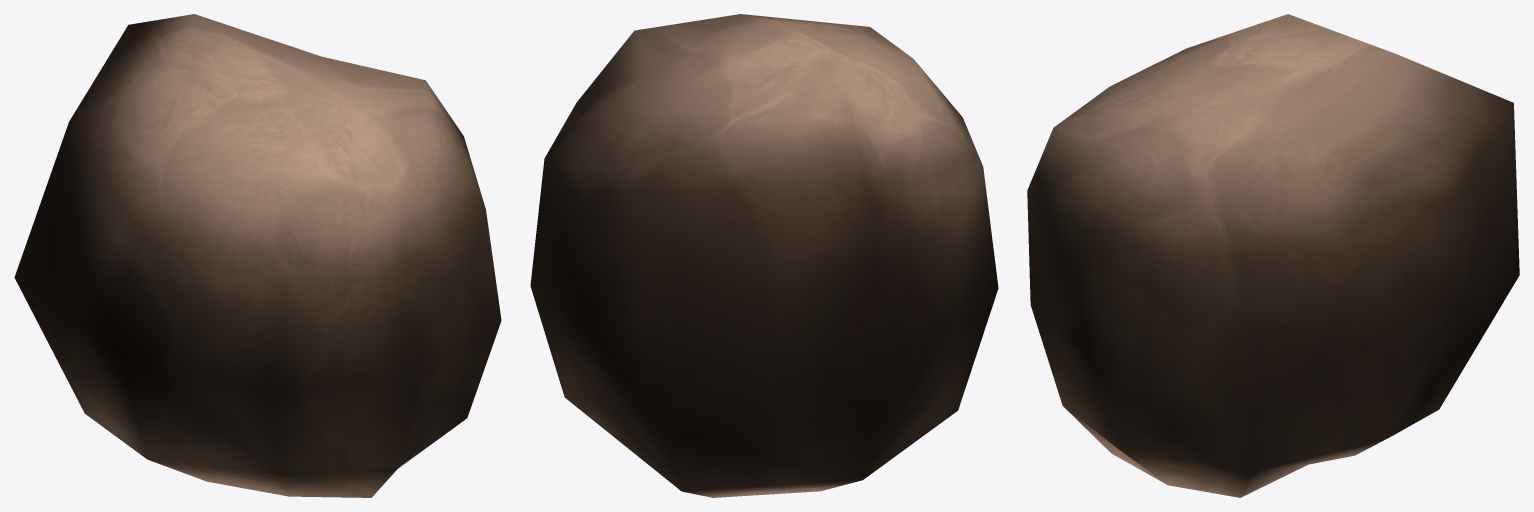
Rendered from rock_5.fbx.
3 renders of one model, left to right at view 1: azimuth 30°, elevation 25°; view 2: azimuth 150°, elevation 25°; view 3: azimuth 270°, elevation 25°, orthographic. The views are drawn at different scales.
Parts seen in each view (by area): view 1: polySurface36; view 2: polySurface36; view 3: polySurface36.
Boxes of the visible parts, box(x1,y1,x2,y2) form: polySurface36: box(14, 14, 501, 497); polySurface36: box(530, 14, 998, 497); polySurface36: box(1027, 14, 1519, 497).
Bounding box in the file's own units: 33.23 × 33.15 × 36.47.
